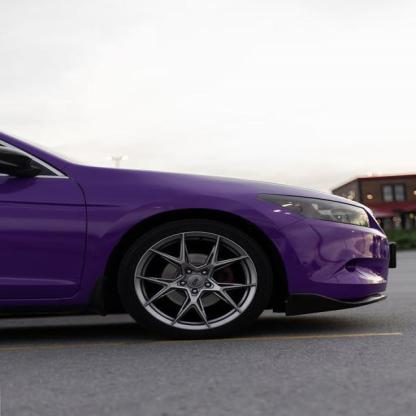Tire: (116, 217, 272, 340)
